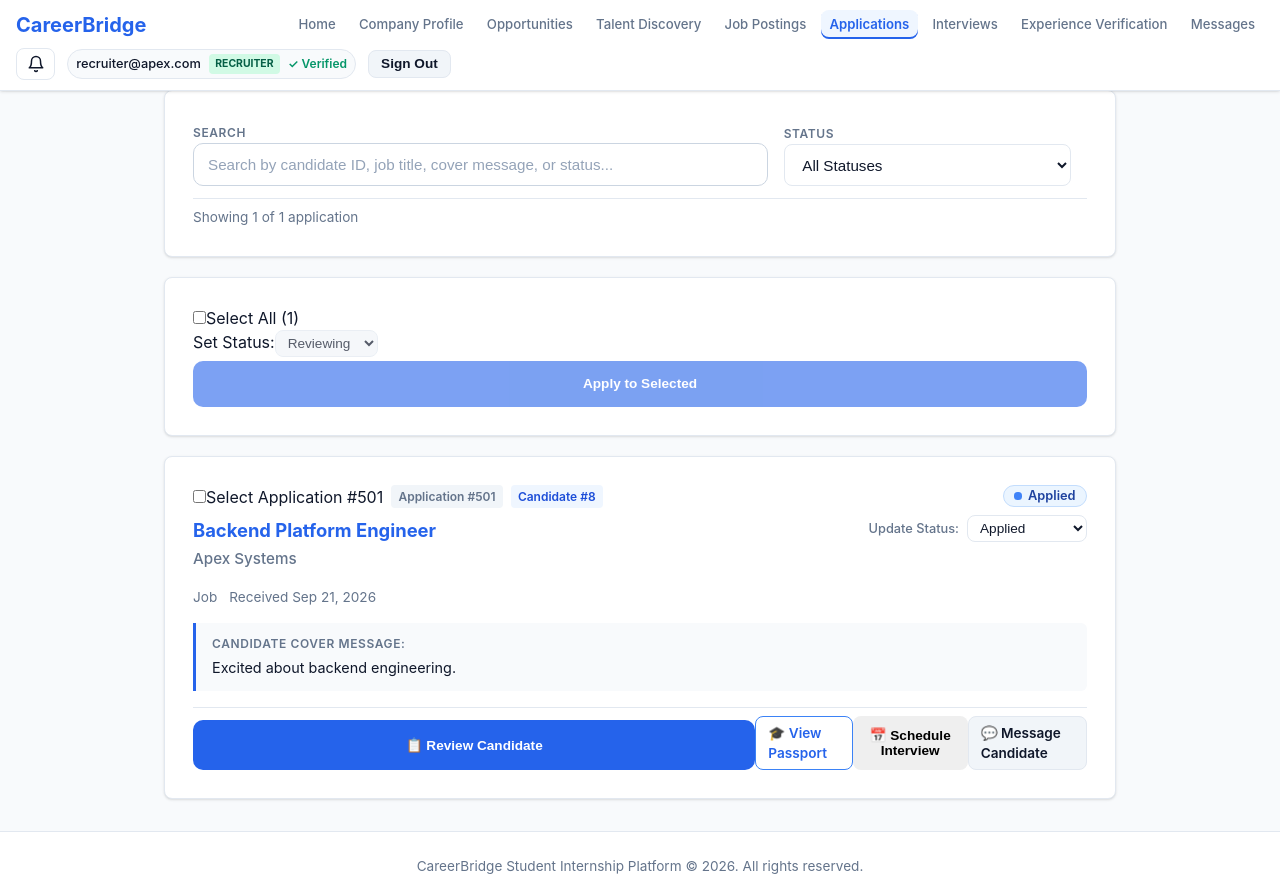
Test: CareerBridge 2.0-E — Experience Passport Integration Flow › Recruiter application integration flow: clicking View Passport navigates to /app/recruiter/passport/8 and displays read-only candidate passport
(page scrolled)
# Click "View Passport"
Click the link with test id "view-passport-btn-501". click: (804, 743)
box: [755,716,853,770]
(page scrolled)
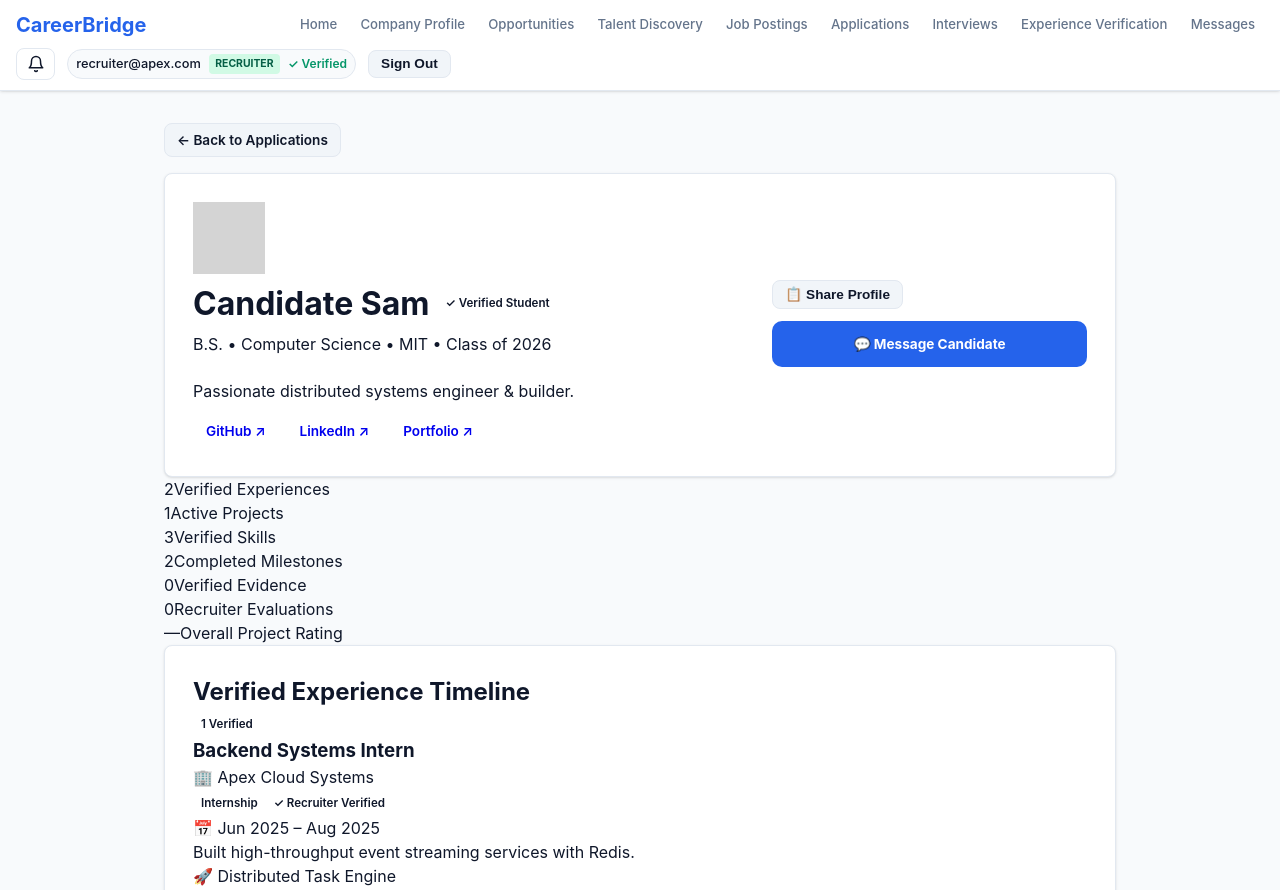
Now the heading with test id "passport-student-name" reads "Candidate Sam", box [193,284,430,322]
